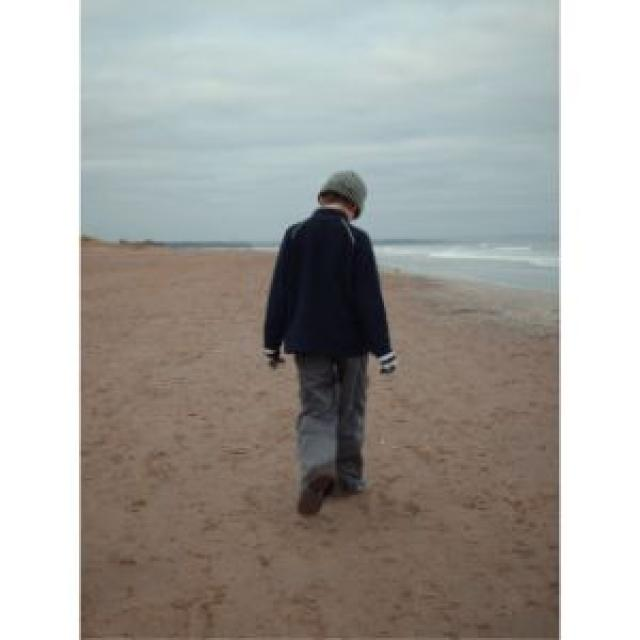nonfall: (259, 164, 406, 500)
